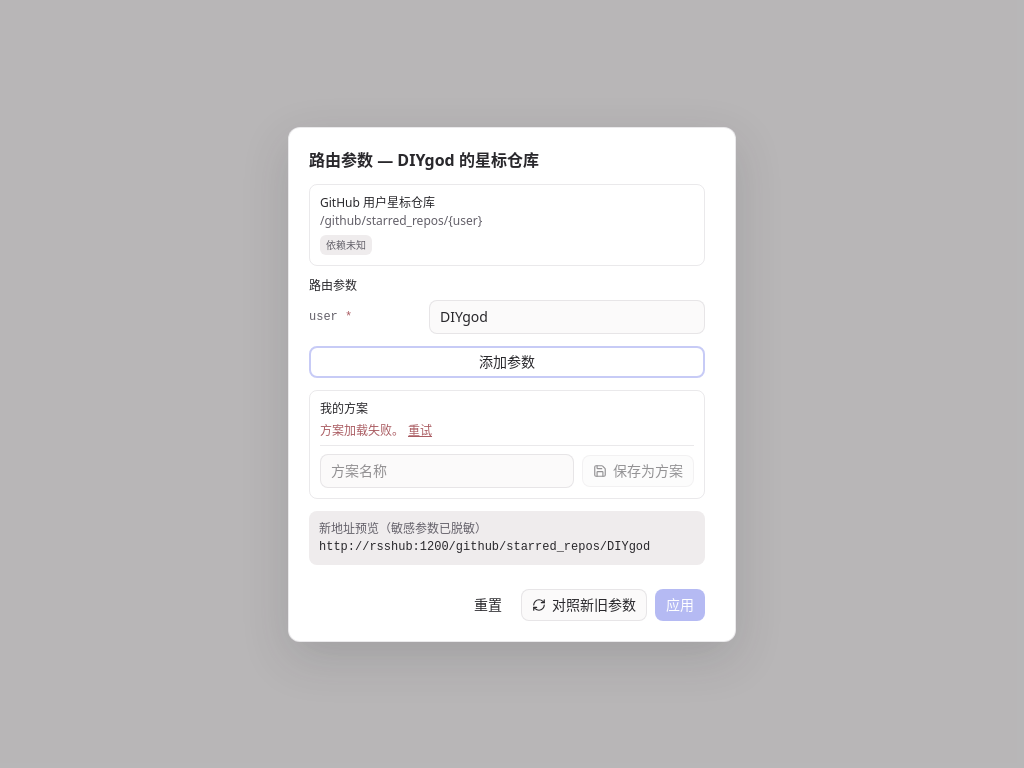
it: F047 — N030 我的方案 › 方案加载失败：错误 + 重试
Check: the text "方案加载失败。" is shown, box [320,422,404,438]
Click the button "重试": (420,430) [408,422,432,438]
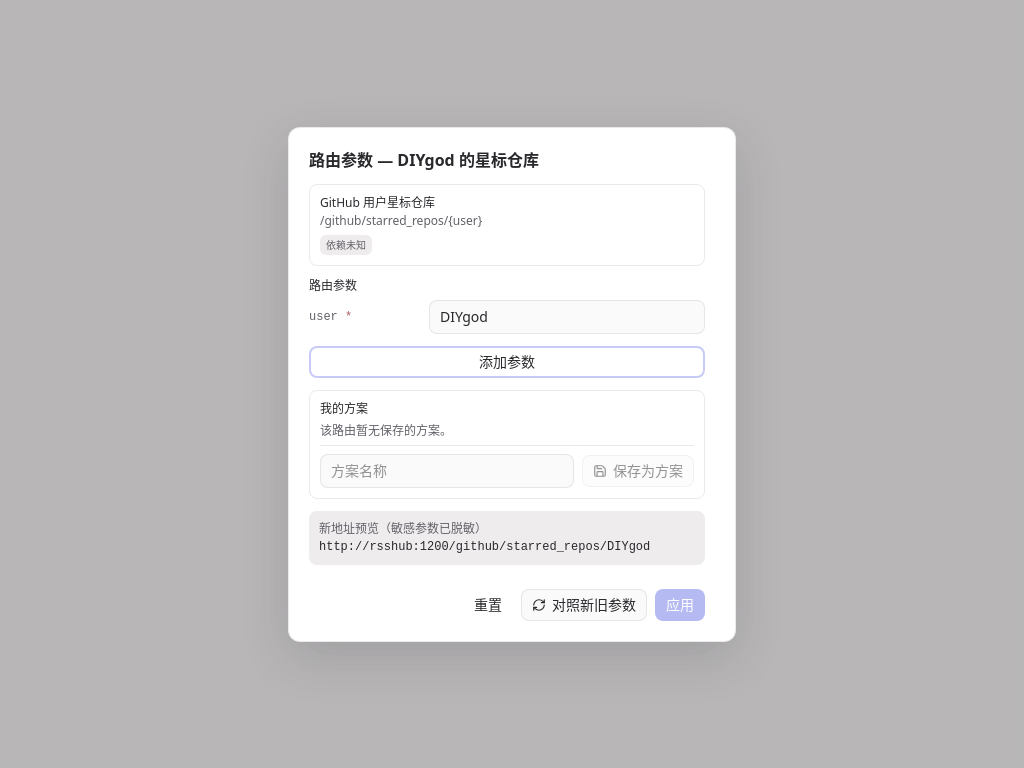
Check: the text "该路由暂无保存的方案。" is shown, box [320,422,452,438]
